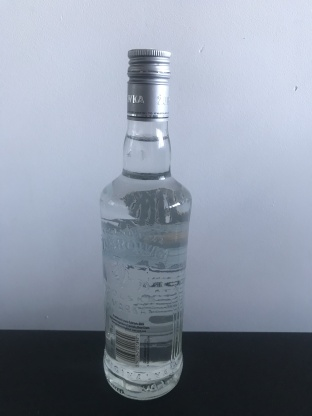nakretka: (125, 46, 173, 123)
